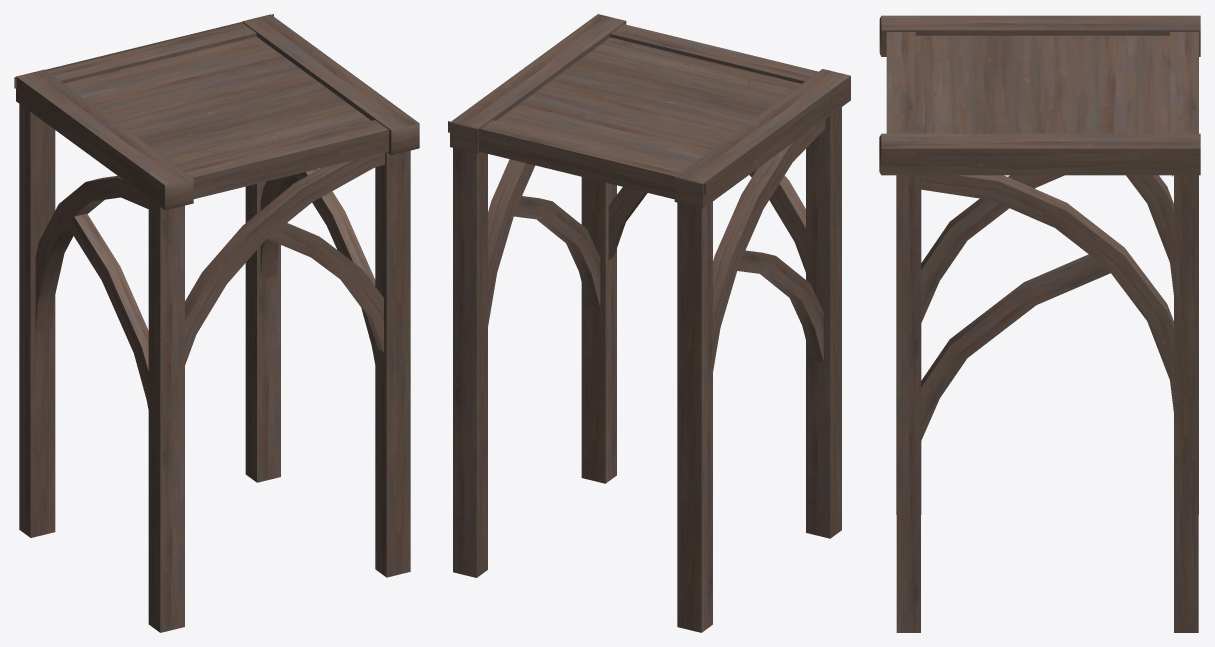
The model's file is Platform.fbx.
The picture shows the model from 3 angles, left to right: view 1: azimuth 30°, elevation 25°; view 2: azimuth 150°, elevation 25°; view 3: azimuth 270°, elevation 25°; orthographic projection. The views are drawn at different scales.
Visible parts, largest first — view 1: Mesh_0138.010; view 2: Mesh_0138.010; view 3: Mesh_0138.010.
Part boxes in pixels (<box>): Mesh_0138.010: <box>14,14,419,632</box>; Mesh_0138.010: <box>448,14,850,632</box>; Mesh_0138.010: <box>879,15,1200,632</box>.
Bounding box in the file's own units: 300 × 500 × 300.
